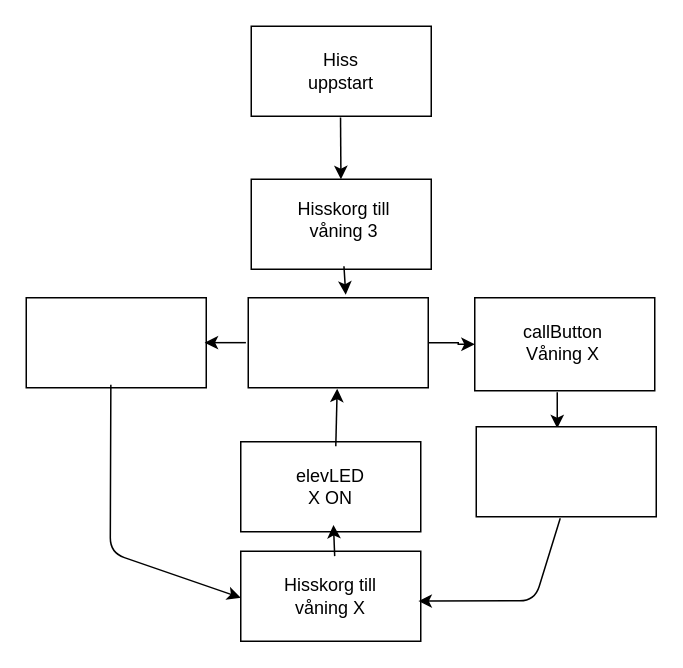
This 683x668 diagram has some shape labels left out. The shapes that lost their labels are listed below. From the top down, each one's centre as x and y in pixels, then its label:
(115,342): elevButton Våning X
(337,342): Vänta på trycksignal
(565,471): Tänd callLED X
